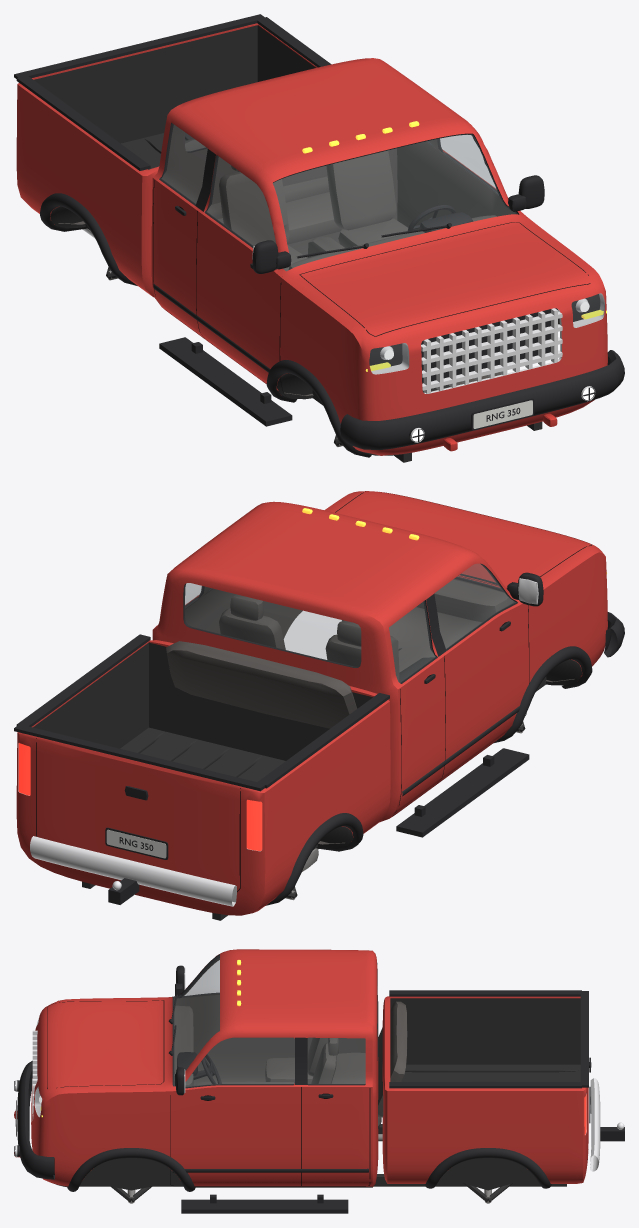
File: pickup.glb
3 views of the same model, one above another, from view 1: azimuth 30°, elevation 25°; view 2: azimuth 150°, elevation 25°; view 3: azimuth 270°, elevation 25° (orthographic). The views are drawn at different scales.
Parts seen in each view (by area): view 1: Body, Glass_Front, Glass_F_R, Glass_B_R, Glass_F_L; view 2: Body, Glass_Back, Glass_F_R, Glass_B_R; view 3: Body, Glass_F_L, Glass_Front, Glass_B_L, Glass_F_R.
Boxes of the visible parts, x1,y1,x2,y2 form: Body: (14, 14, 624, 462); Glass_Front: (273, 134, 517, 270); Glass_F_R: (207, 156, 275, 245); Glass_B_R: (162, 124, 207, 203); Glass_F_L: (439, 135, 498, 194); Body: (14, 491, 624, 920); Glass_Back: (184, 583, 360, 667); Glass_F_R: (435, 564, 515, 648); Glass_B_R: (389, 601, 435, 682); Body: (14, 949, 624, 1213); Glass_F_L: (185, 1038, 294, 1086); Glass_Front: (173, 955, 219, 1085); Glass_B_L: (308, 1038, 365, 1083); Glass_F_R: (184, 960, 219, 996).
Size of the model in its own units: 2.44 by 2.01 by 5.7.
